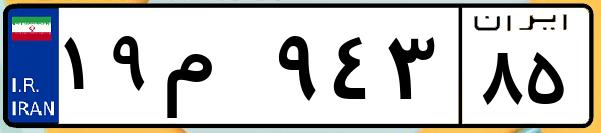1: (57, 26, 110, 100)
3: (385, 28, 445, 110)
4: (330, 28, 385, 110)
5: (525, 38, 570, 115)
8: (475, 38, 525, 113)
9: (270, 28, 330, 110), (110, 28, 158, 98)
م: (158, 20, 270, 120)
